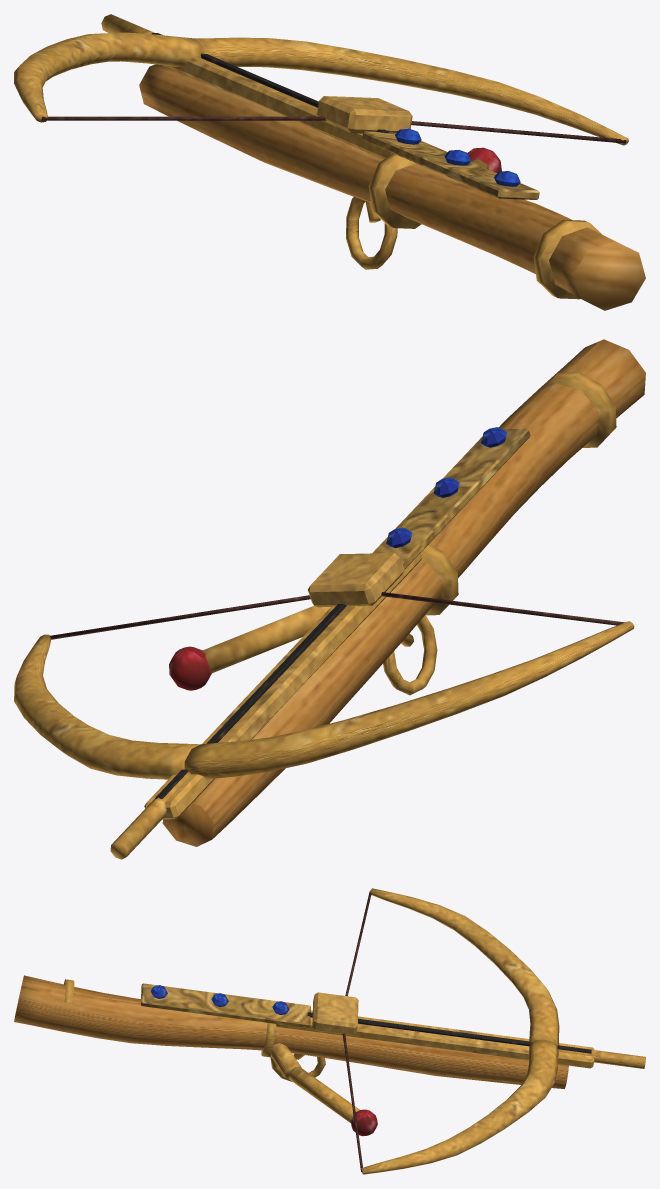
File: item_crsbow3.glb
The picture shows the model from 3 angles, top to bottom: view 1: azimuth 30°, elevation 25°; view 2: azimuth 150°, elevation 25°; view 3: azimuth 270°, elevation 25°; orthographic projection. The views are drawn at different scales.
Visible parts, largest first — view 1: item_crsbow3; view 2: item_crsbow3; view 3: item_crsbow3.
Part boxes in pixels (x1=…): item_crsbow3: x1=14, y1=14, x2=645, y2=310; item_crsbow3: x1=14, y1=339, x2=645, y2=859; item_crsbow3: x1=14, y1=888, x2=645, y2=1174.
Size of the model in its own units: 0.6821 by 0.1955 by 1.
Materials: 1 (1 with a texture image).
